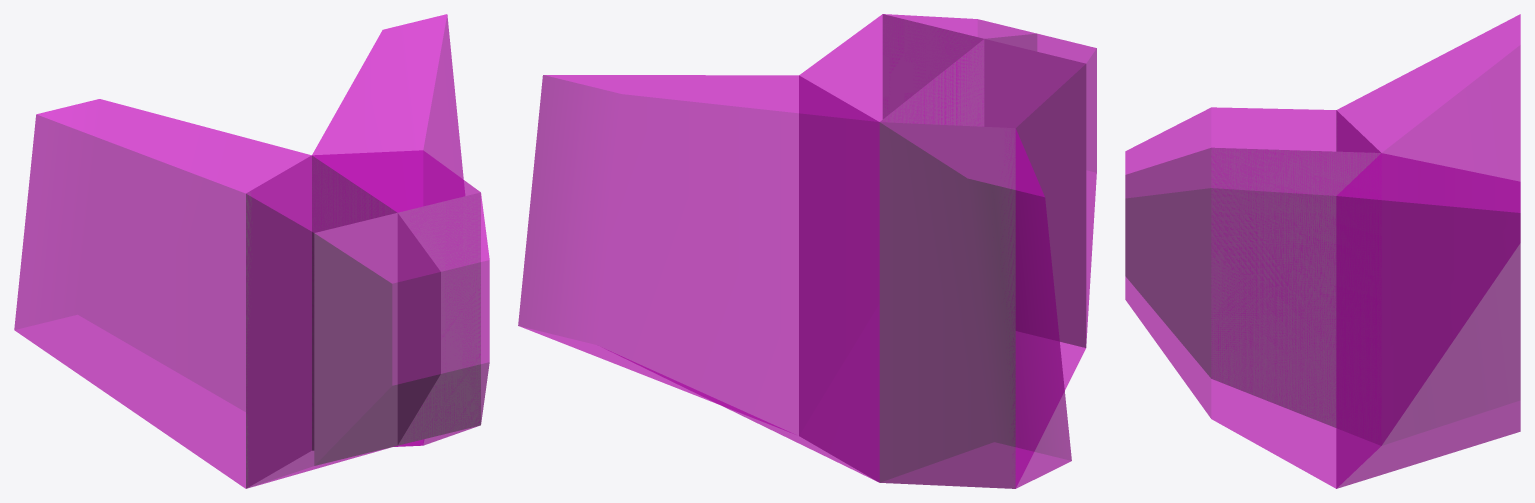
The model's file is SM_Veh_Ship_L_Figurehead_04_Collision.fbx.
3 renders of one model, left to right at view 1: azimuth 30°, elevation 25°; view 2: azimuth 150°, elevation 25°; view 3: azimuth 270°, elevation 25°, orthographic. The views are drawn at different scales.
Parts seen in each view (by area): view 1: SM_Veh_Ship_L_Figurehead_04_Collision; view 2: SM_Veh_Ship_L_Figurehead_04_Collision; view 3: SM_Veh_Ship_L_Figurehead_04_Collision.
Part boxes in pixels (<box>): SM_Veh_Ship_L_Figurehead_04_Collision: <box>14,14,489,488</box>; SM_Veh_Ship_L_Figurehead_04_Collision: <box>518,14,1096,488</box>; SM_Veh_Ship_L_Figurehead_04_Collision: <box>1125,14,1520,488</box>.
Bounding box in the file's own units: 857 × 606 × 652.
